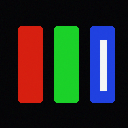4 line_v: (100, 40, 106, 90)
